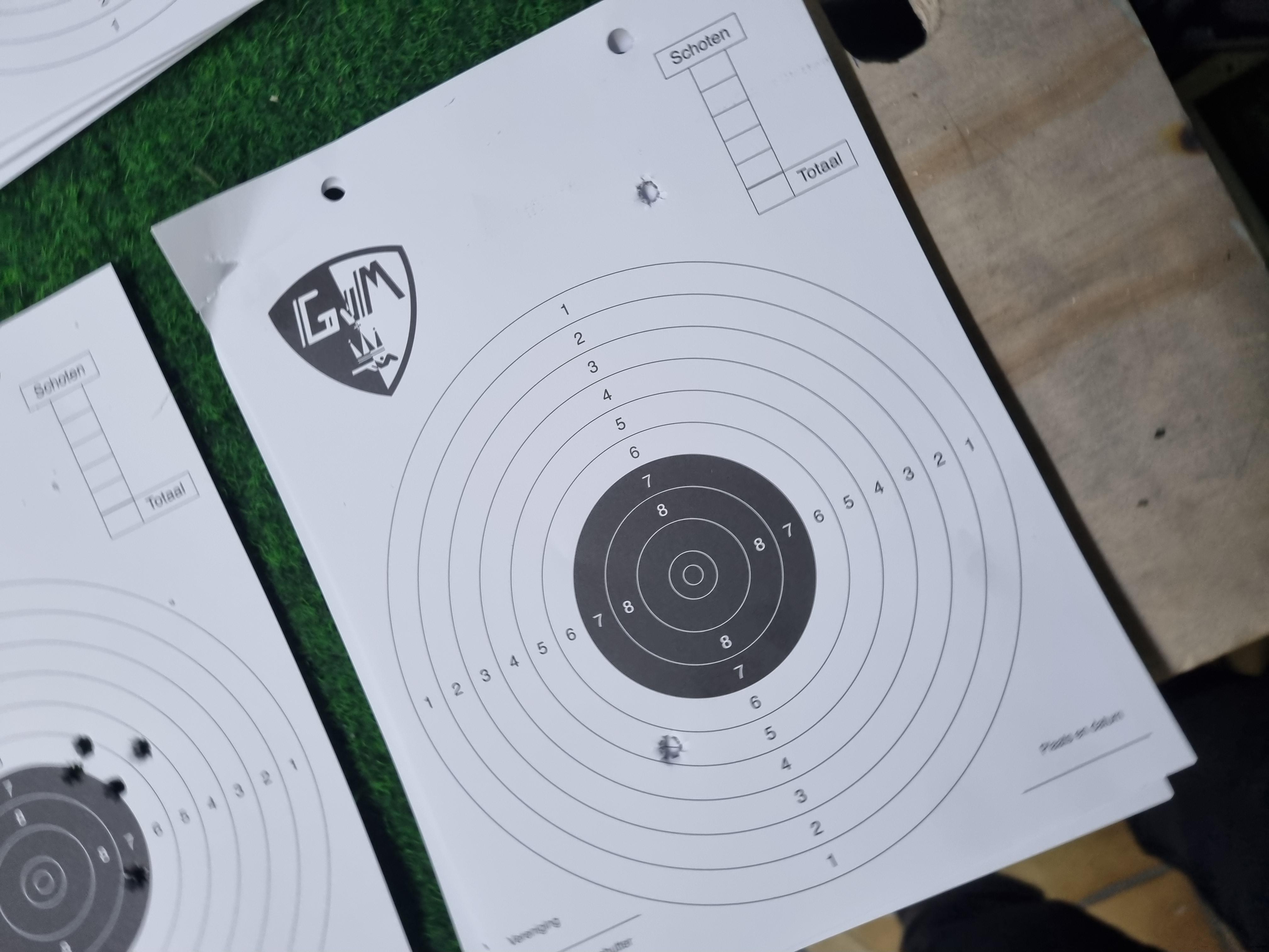hole: (994, 477, 1029, 495), (255, 494, 289, 512), (84, 93, 118, 111), (203, 78, 234, 96), (258, 54, 289, 72), (254, 98, 287, 114), (222, 48, 252, 63)
